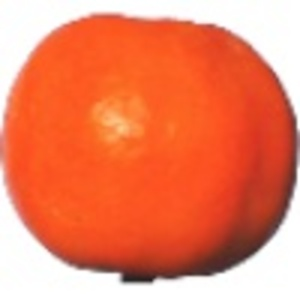tangerina: (1, 11, 300, 284)
